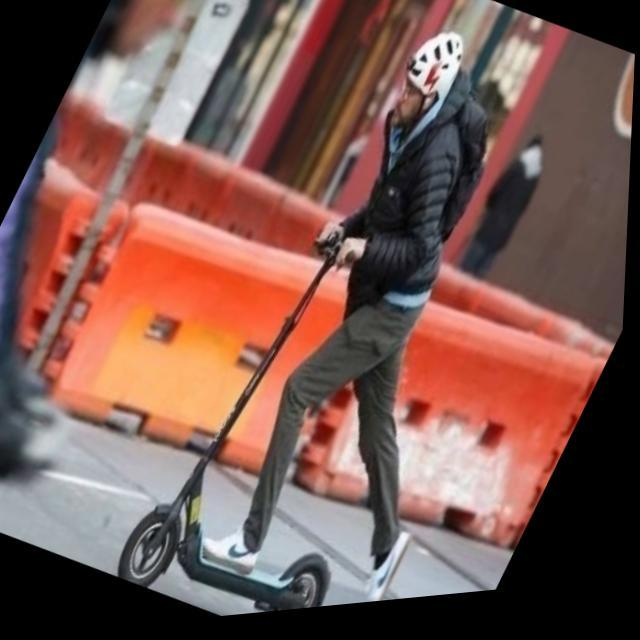Helmet: (383, 24, 467, 136)
